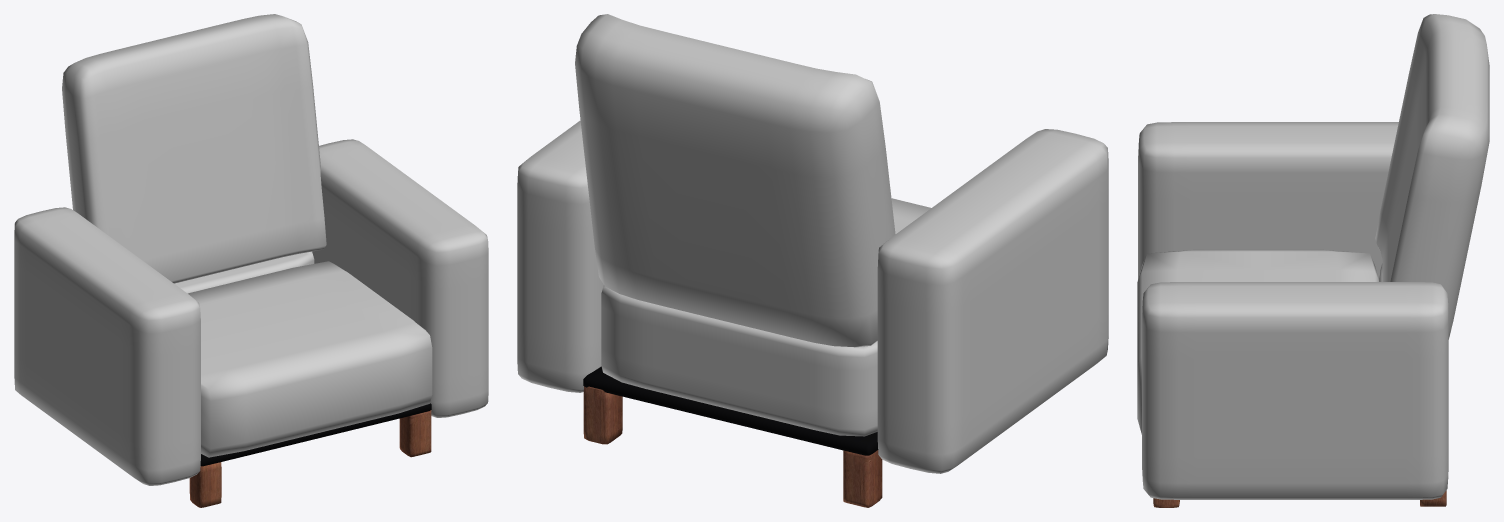
File: Sofa-green.dae
3 renders of one model, left to right at view 1: azimuth 30°, elevation 25°; view 2: azimuth 150°, elevation 25°; view 3: azimuth 270°, elevation 25°, orthographic. The views are drawn at different scales.
Visible parts, largest first — view 1: sofa; view 2: sofa; view 3: sofa.
Part boxes in pixels (box(x1,y1,x2,y2)): sofa: box(14, 14, 488, 507); sofa: box(517, 14, 1108, 507); sofa: box(1137, 14, 1489, 507).
Bounding box in the file's own units: 3.36 × 2.64 × 3.13.
